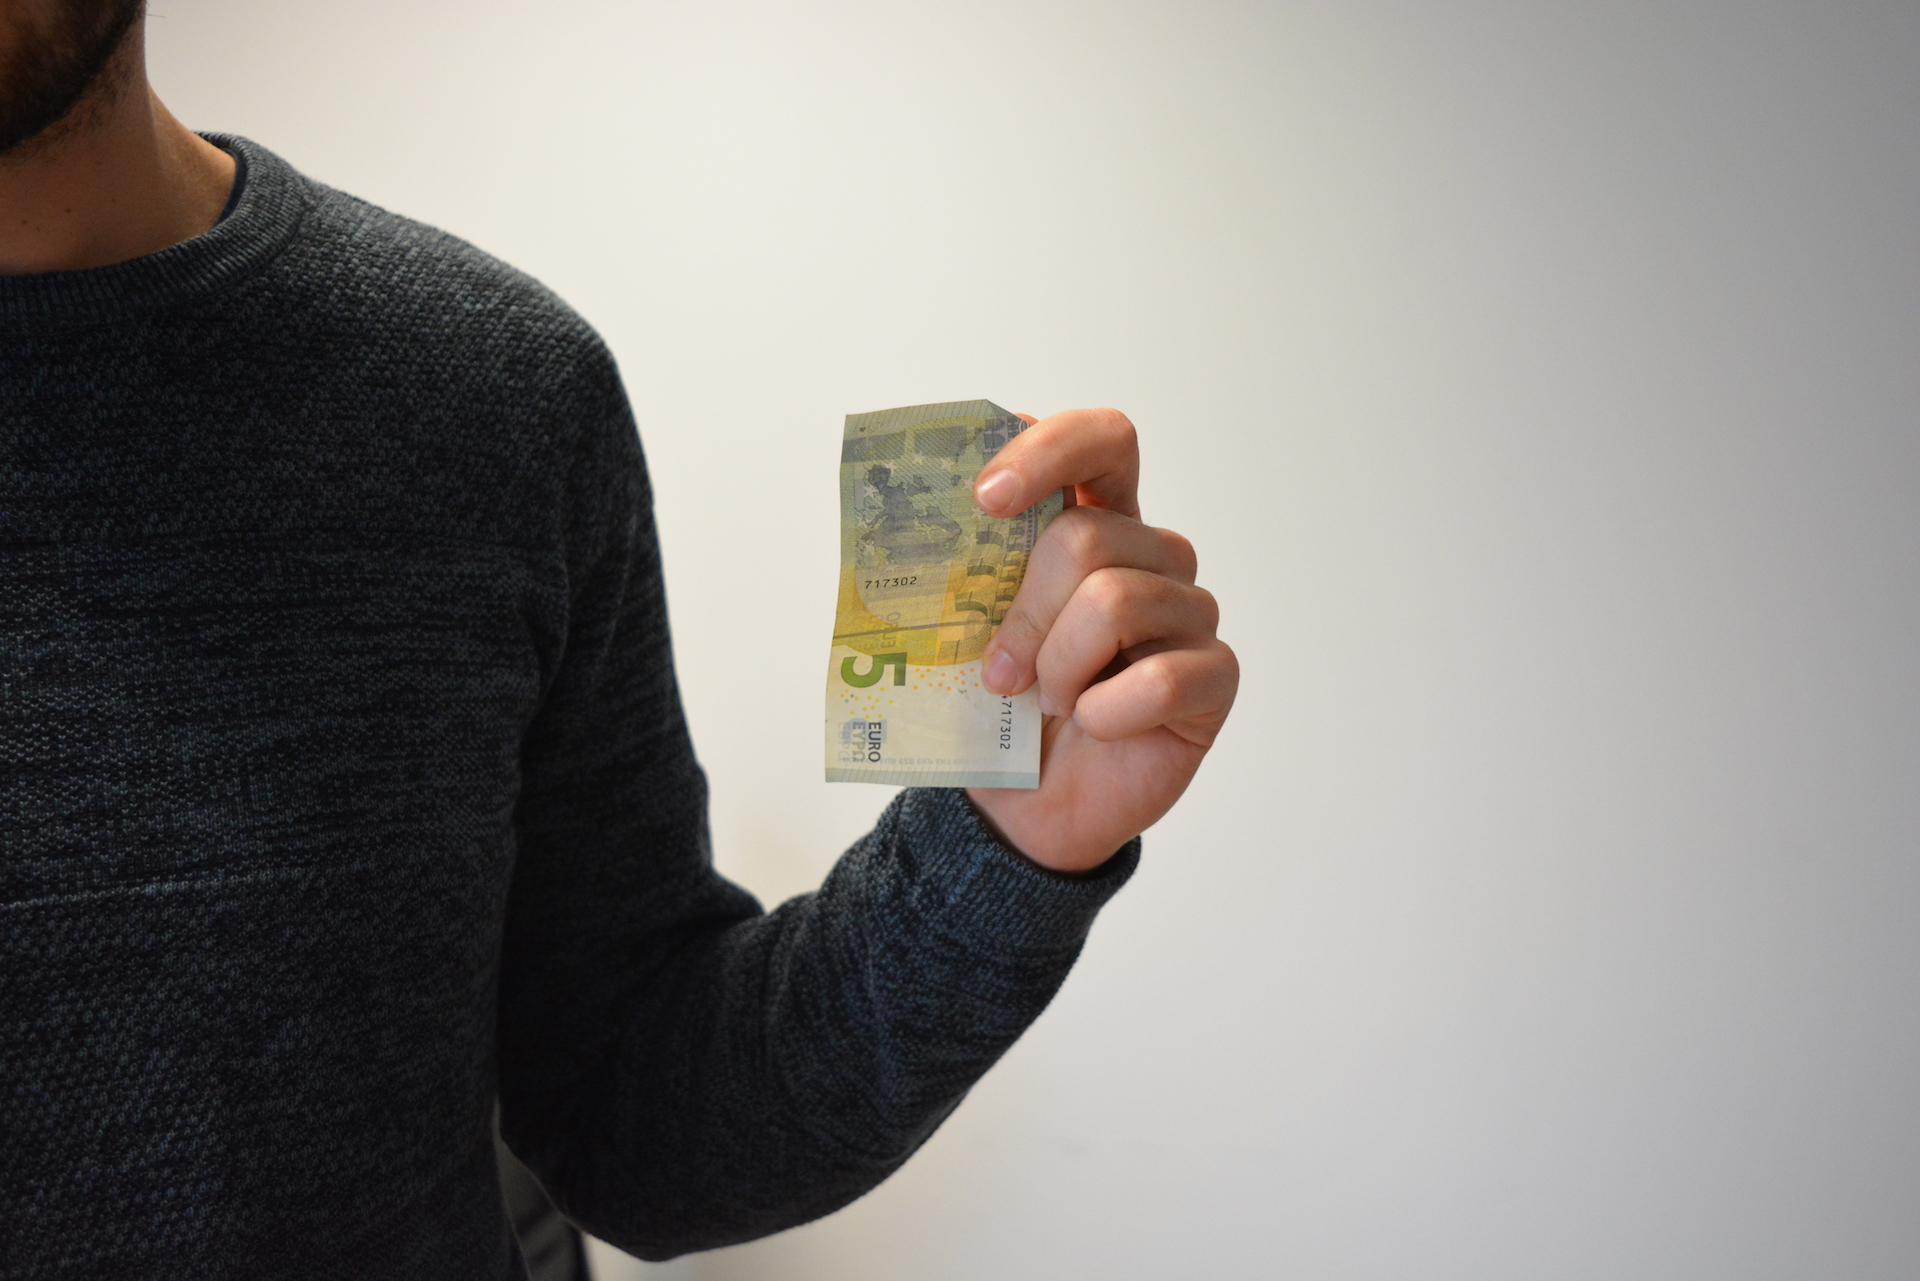billete: (822, 397, 1067, 791)
